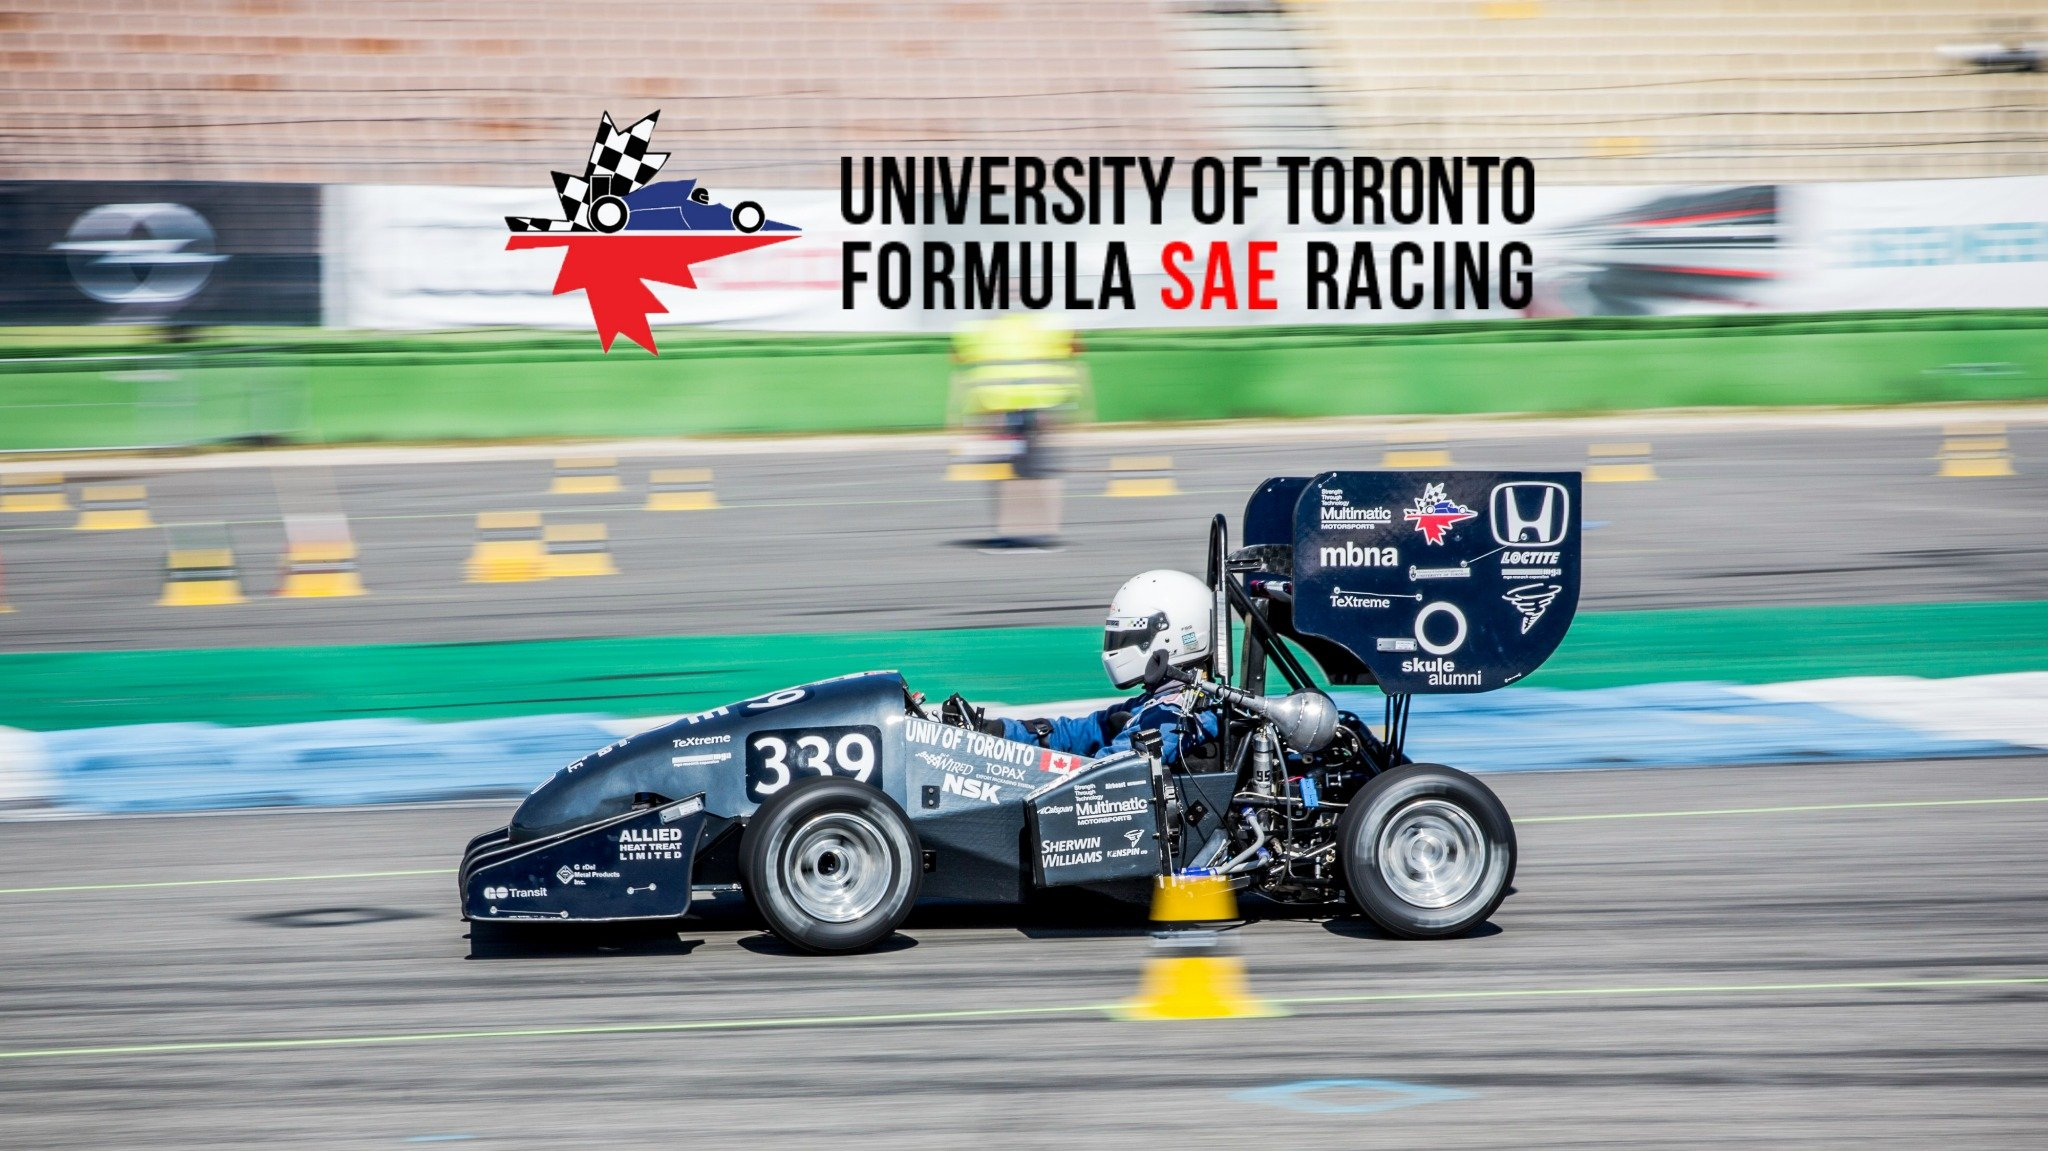cone: (1127, 871, 1276, 1029)
